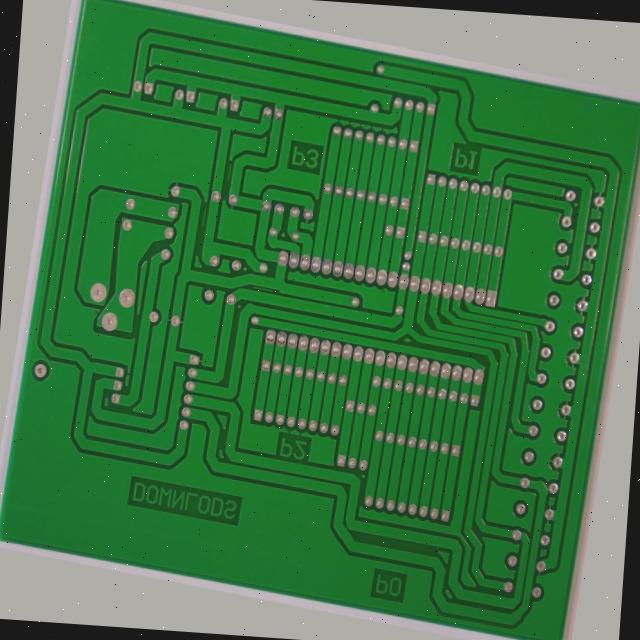spurious_copper: (176, 205, 190, 234), (240, 287, 267, 299), (202, 153, 212, 178)
